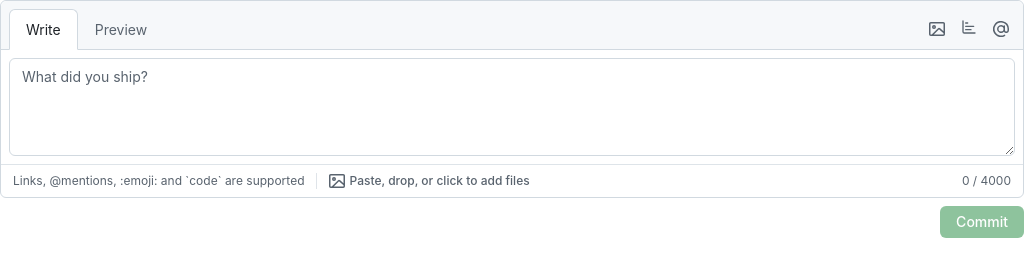
Test: InlineComposer, mention suggestions › completes the mention on Enter, followed by a space, and closes
In the text box with placeholder "What did you ship?": point(512, 107) [9,58,1015,156], type "Thanks @la"
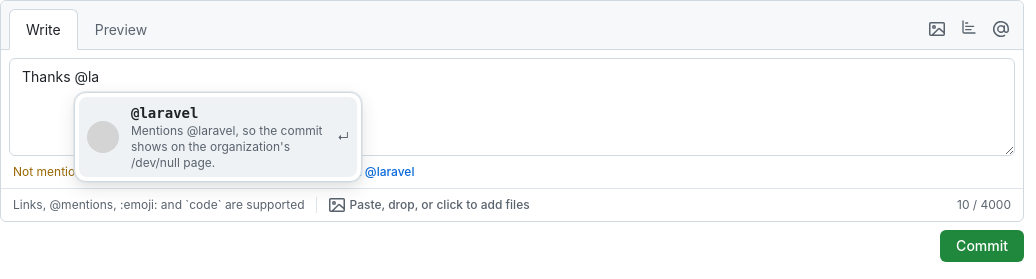
Press Enter in the text box named "Commit message", box [9,58,1015,156]
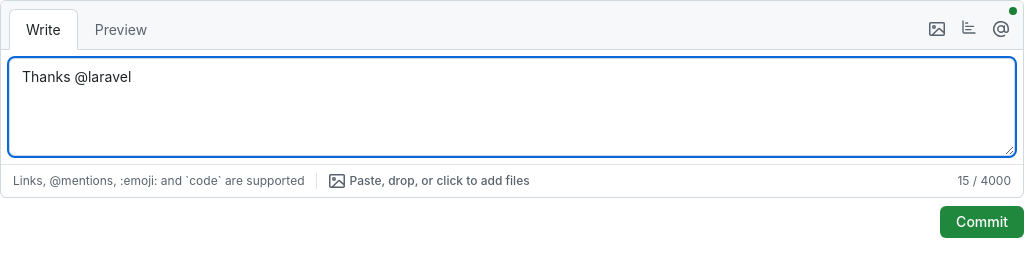
Expected: the text box named "Commit message" holds "Thanks @laravel ", [9,58,1015,156]
Expected: the list is gone
